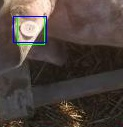text: (17, 16, 44, 44)
